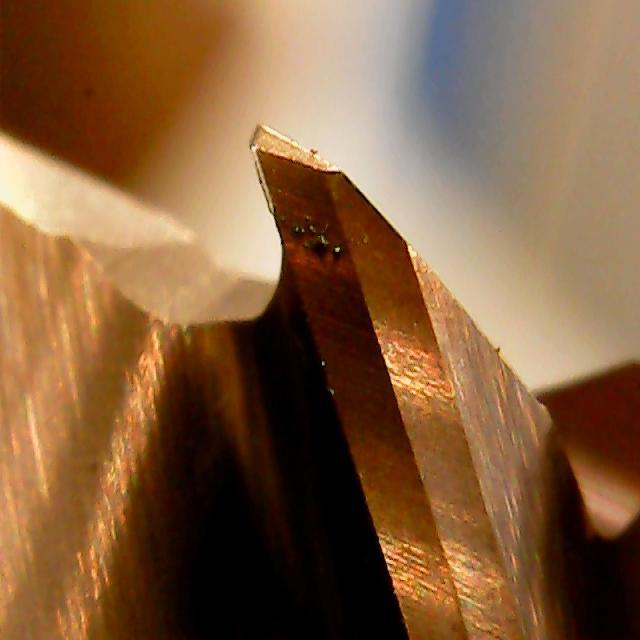Tool-wear-class-0: (247, 124, 414, 356)
